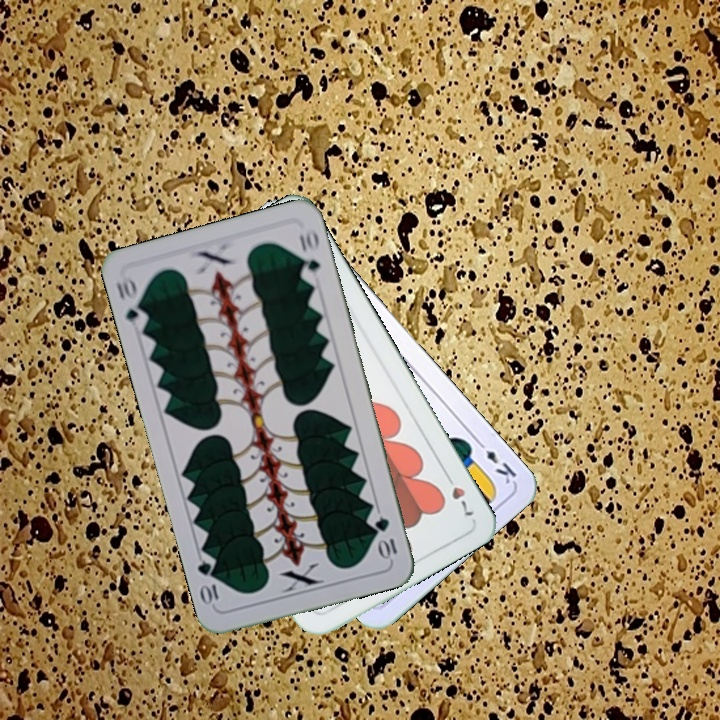EK: (472, 435, 520, 487)
G10: (111, 273, 151, 329), (371, 513, 400, 562)
H7: (440, 467, 477, 519)
